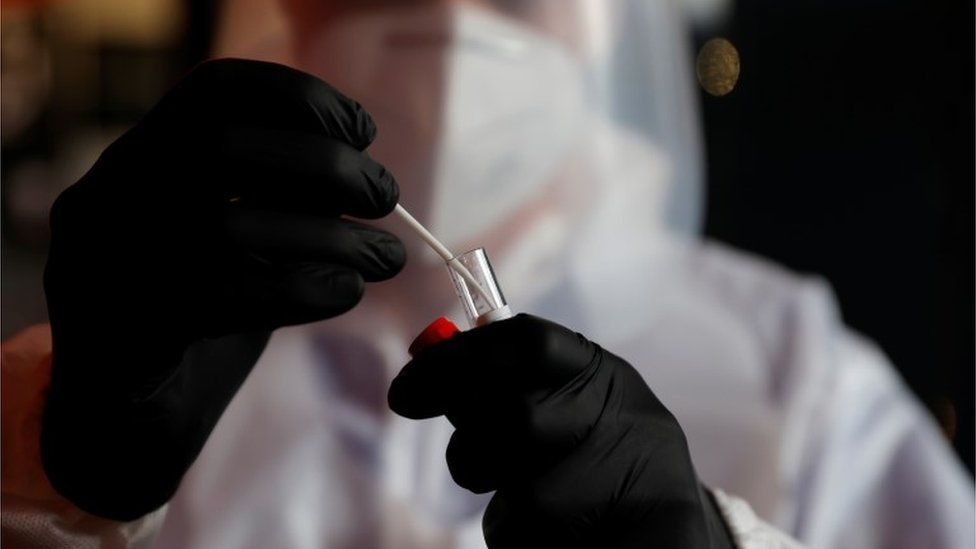Gloves: (29, 51, 410, 525), (385, 310, 736, 549)
